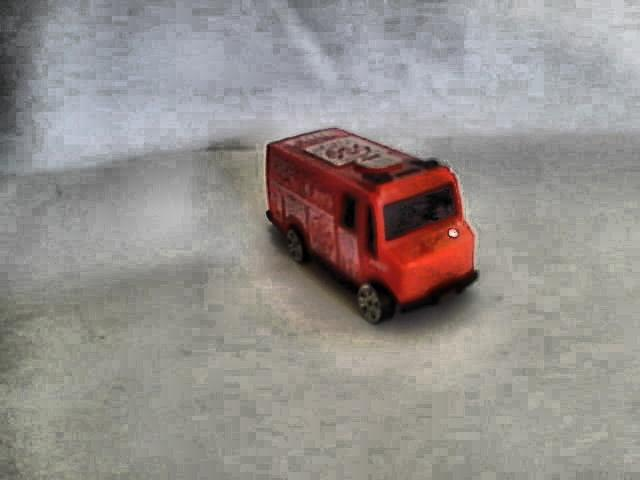fire_truck: (261, 126, 482, 328)
